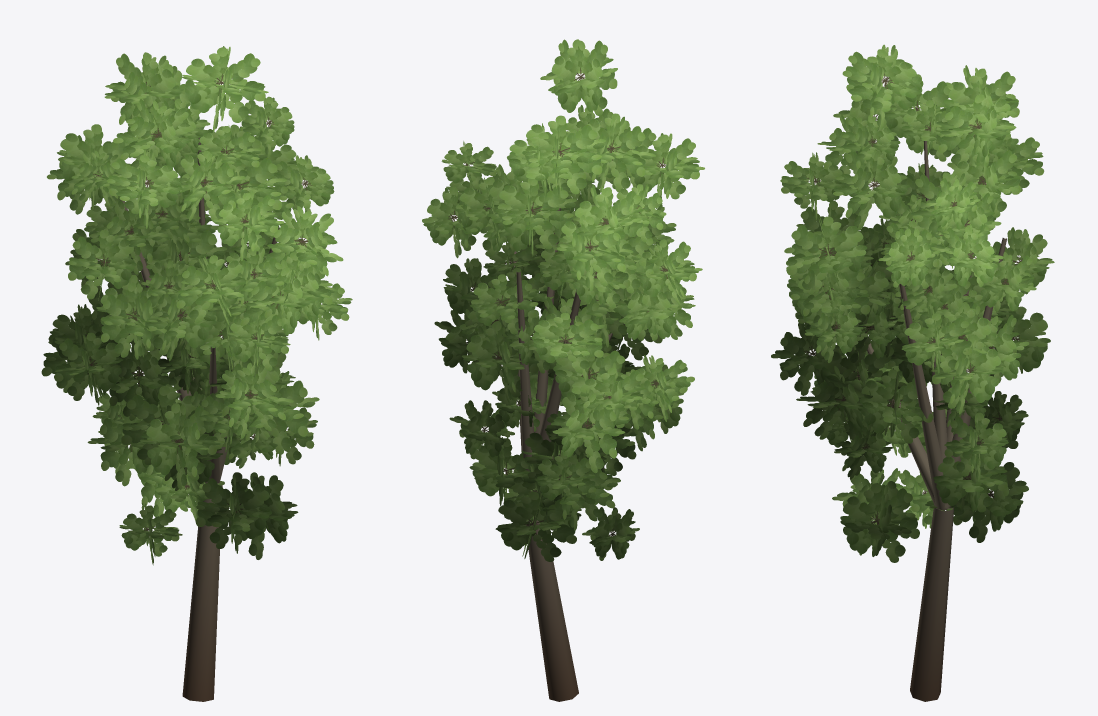
File: tree-ribera.glb
The picture shows the model from 3 angles, left to right: view 1: azimuth 30°, elevation 25°; view 2: azimuth 150°, elevation 25°; view 3: azimuth 270°, elevation 25°; orthographic projection. The views are drawn at different scales.
Visible parts, largest first — view 1: tree-ribera; view 2: tree-ribera; view 3: tree-ribera.
Boxes of the visible parts, left/top/right/bottom form: tree-ribera: left=41, top=46, right=352, bottom=701; tree-ribera: left=422, top=39, right=704, bottom=701; tree-ribera: left=771, top=44, right=1054, bottom=701.
Bounding box in the file's own units: 6.28 × 14.13 × 6.39.
2 materials, 1 textured.
